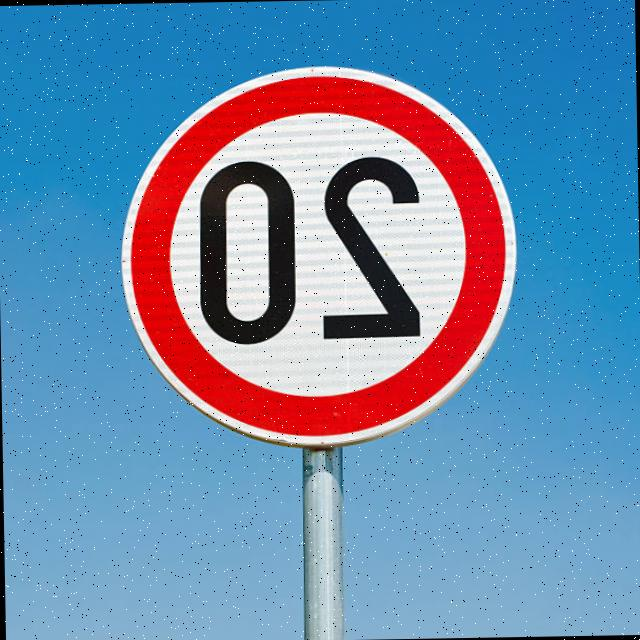speed_limit_20: (103, 51, 530, 464)
